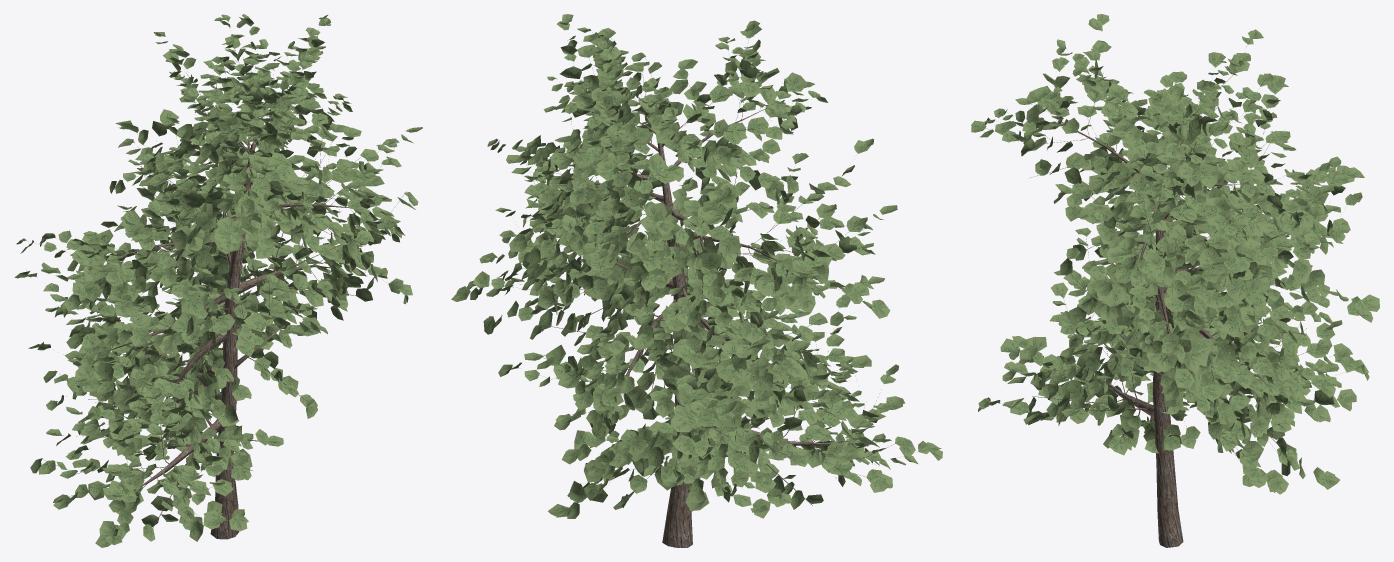
The model's file is tree.obj.
3 views of the same model, side by side, from view 1: azimuth 30°, elevation 25°; view 2: azimuth 150°, elevation 25°; view 3: azimuth 270°, elevation 25° (orthographic). The views are drawn at different scales.
Parts seen in each view (by area): view 1: A01992; view 2: A01992; view 3: A01992.
Boxes of the visible parts, x1,y1,x2,y2 form: A01992: (14,14,422,547); A01992: (451,14,942,547); A01992: (971,14,1379,547).
Size of the model in its own units: 23.45 by 29.31 by 21.27.
3 materials, 3 textured.
